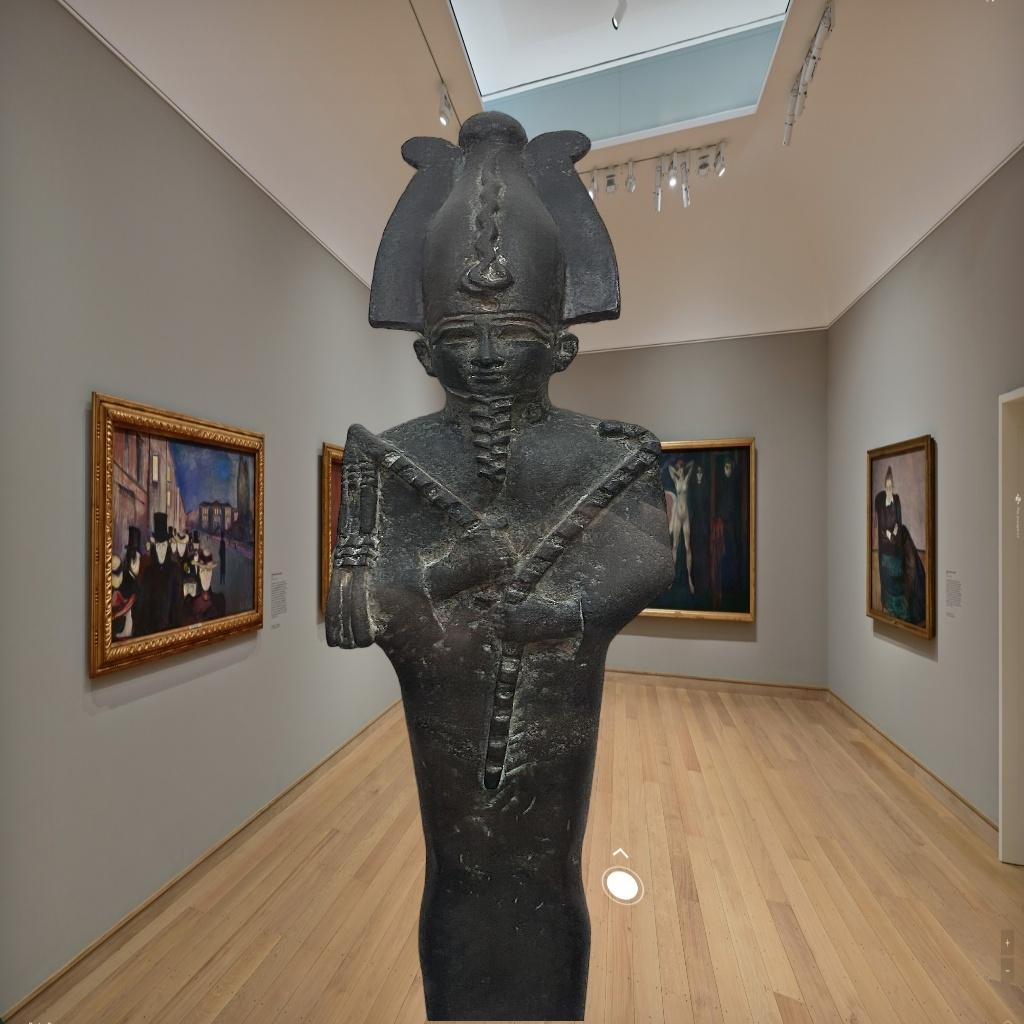Statue of Osiris: (320, 109, 681, 1021)
